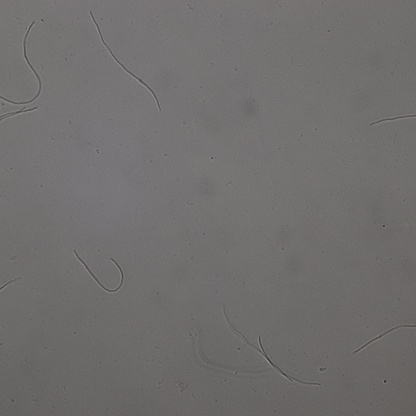Sensitive: (225, 306, 320, 385), (90, 12, 161, 109), (1, 21, 42, 105), (76, 249, 124, 293), (354, 322, 415, 352), (370, 112, 416, 126), (1, 277, 22, 293)
